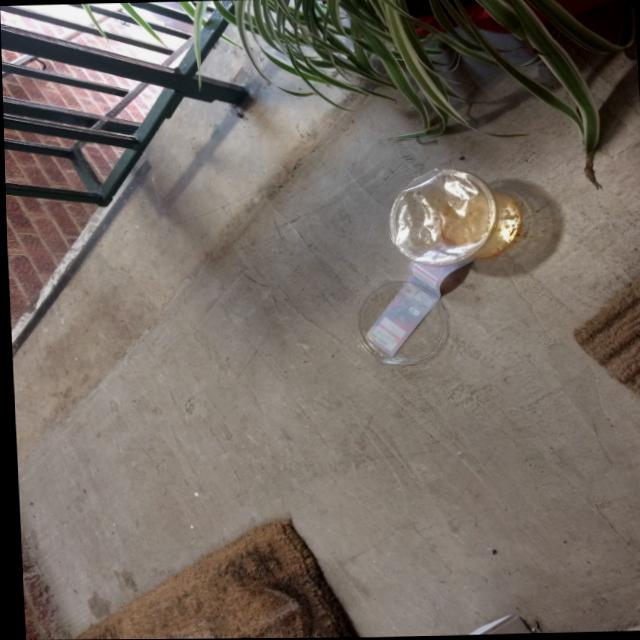Plastic: (376, 162, 530, 272), (340, 273, 458, 370)
